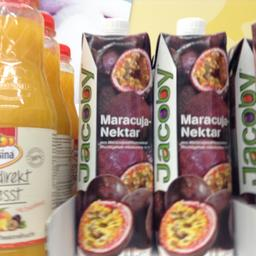juice: (74, 17, 156, 255), (152, 17, 232, 255)
